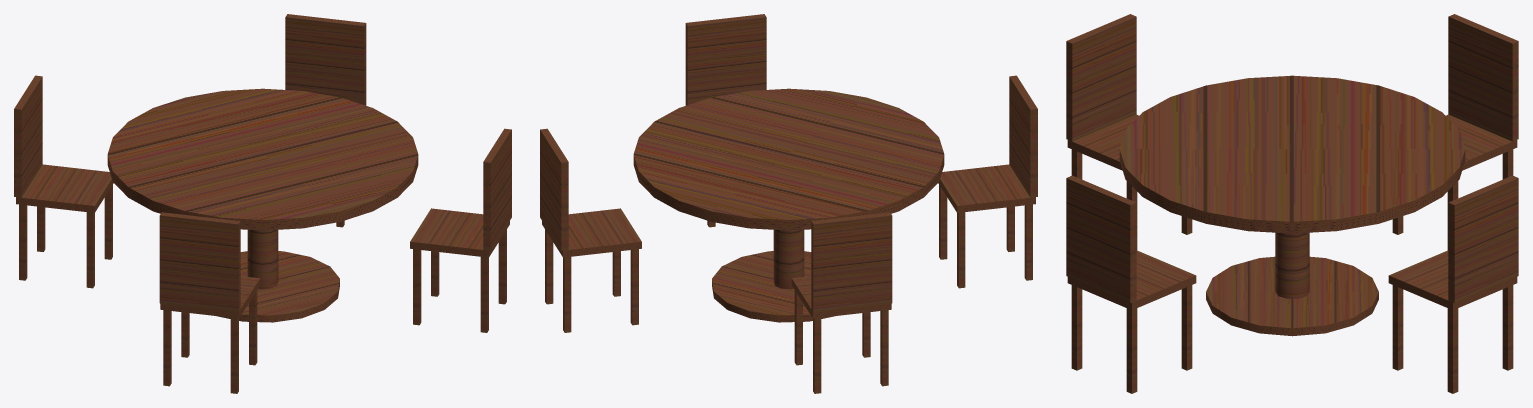
Rendered from library_table.glb.
3 renders of one model, left to right at view 1: azimuth 30°, elevation 25°; view 2: azimuth 150°, elevation 25°; view 3: azimuth 270°, elevation 25°, orthographic. The views are drawn at different scales.
Parts seen in each view (by area): view 1: library_table, chair_3, chair_2, chair_0, chair_1; view 2: library_table, chair_2, chair_3, chair_1, chair_0; view 3: library_table, chair_0, chair_1, chair_2, chair_3.
Boxes of the visible parts, x1,y1,x2,y2 form: library_table: (107,88,418,322); chair_3: (159,212,260,393); chair_2: (14,75,113,288); chair_0: (410,128,511,332); chair_1: (285,14,366,227); library_table: (633,88,944,322); chair_2: (791,212,892,393); chair_3: (938,75,1037,288); chair_1: (540,128,641,332); chair_0: (685,14,766,227); library_table: (1119,75,1465,336); chair_0: (1066,175,1196,393); chair_1: (1388,175,1518,393); chair_2: (1392,14,1518,249); chair_3: (1066,14,1192,249).
Bounding box in the file's own units: 2.09 × 0.975 × 2.09.
1 material, 1 textured.
